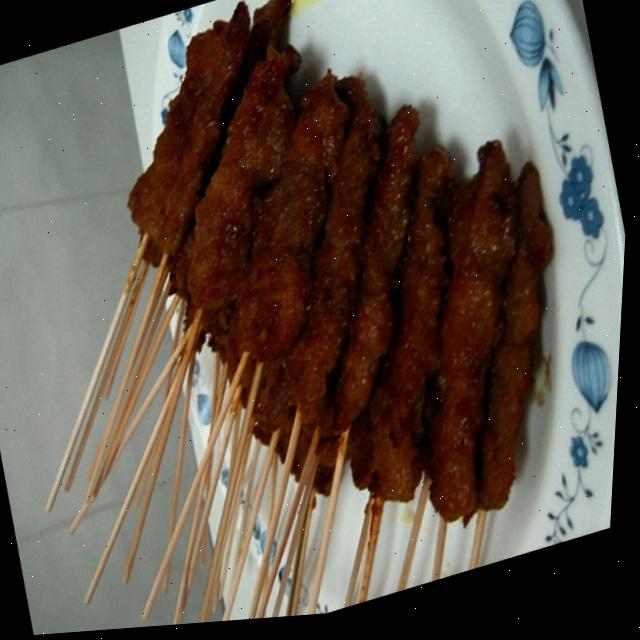牛肉菜式: (12, 0, 640, 638)
